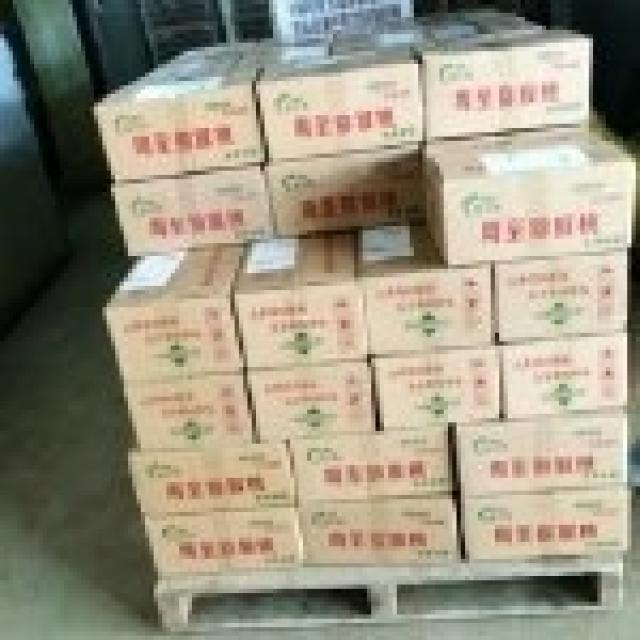box: (422, 107, 636, 265), (397, 9, 593, 141), (94, 38, 265, 179), (256, 30, 422, 162), (230, 226, 371, 375), (102, 247, 247, 380), (358, 218, 495, 358), (111, 166, 277, 256), (452, 410, 627, 495), (269, 141, 422, 235), (457, 486, 631, 563), (495, 252, 627, 346), (290, 427, 452, 503), (124, 444, 294, 516), (299, 495, 461, 567), (145, 508, 307, 580), (247, 358, 380, 444), (499, 329, 627, 418), (371, 346, 499, 431), (124, 375, 256, 452)
